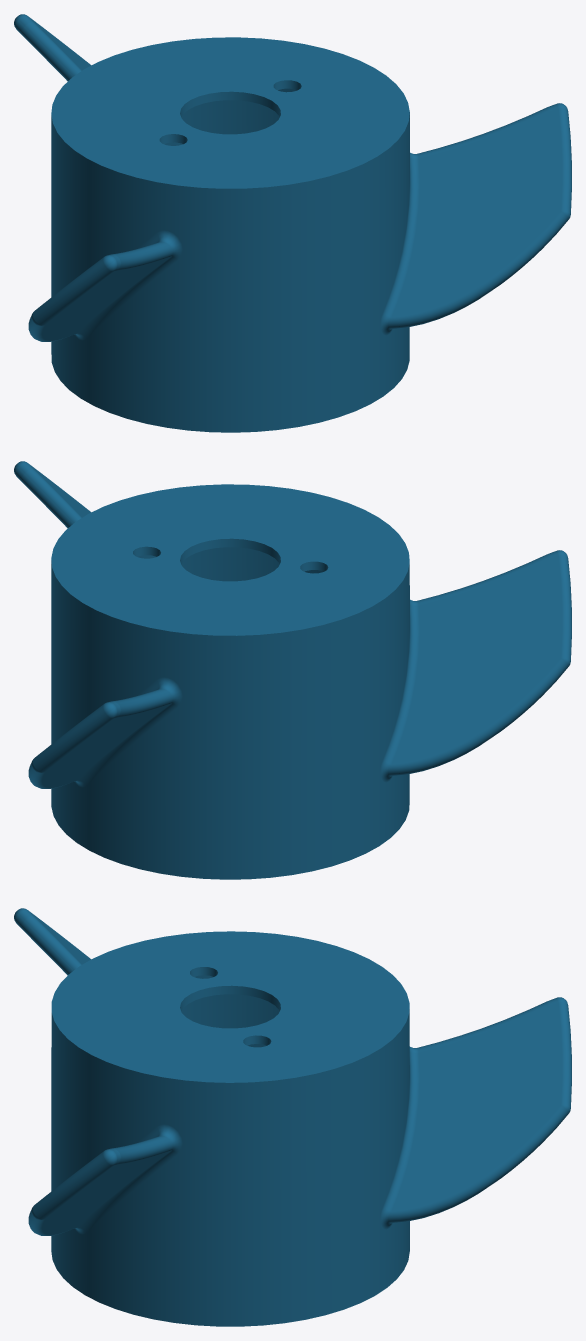
Rendered from ccw_prop_mesh.obj.
3 renders of one model, top to bottom at view 1: azimuth 30°, elevation 25°; view 2: azimuth 150°, elevation 25°; view 3: azimuth 270°, elevation 25°, orthographic.
Visible parts, largest first — view 1: obj1; view 2: obj1; view 3: obj1.
Part boxes in pixels (x1=…): obj1: x1=14, y1=14, x2=571, y2=432; obj1: x1=14, y1=461, x2=571, y2=879; obj1: x1=14, y1=908, x2=571, y2=1326.
Bounding box in the file's own units: 0.1683 × 0.072 × 0.1494.
